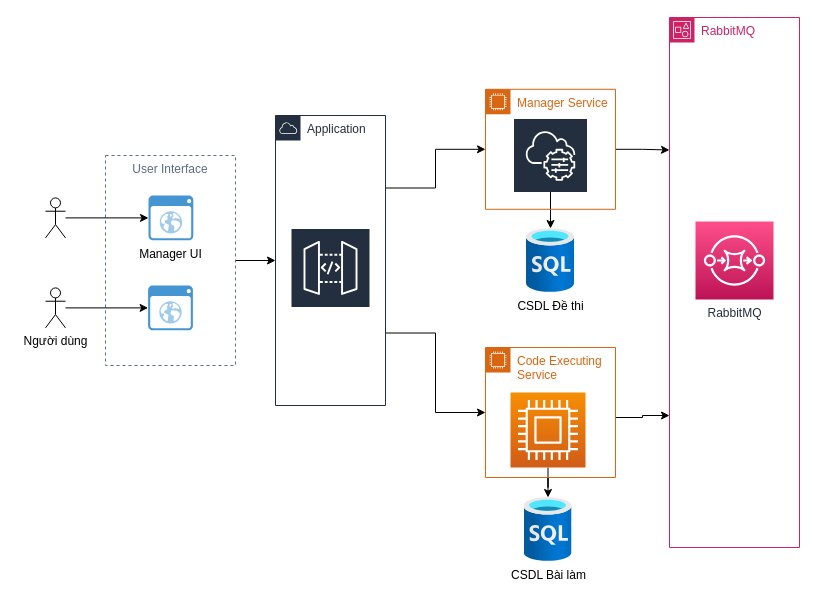
The diagram is 817 pixels wide and 600 high, and some of its shapes have lost their labels. The shapes that lost their labels are listed below. From the top down, each one's centre as x and y in pixels, then its label:
(x=55, y=217): Người quản lý
(x=330, y=282): API Gateway
(x=170, y=307): Code UI
